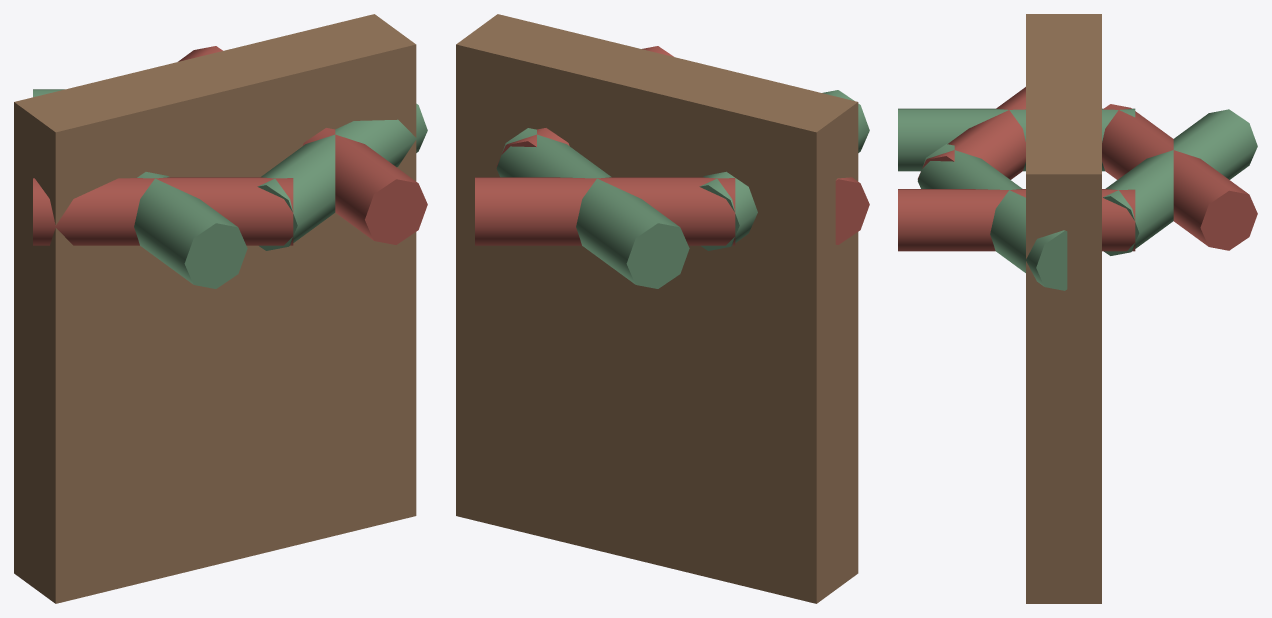
Rendered from wine_rack.glb.
3 renders of one model, left to right at view 1: azimuth 30°, elevation 25°; view 2: azimuth 150°, elevation 25°; view 3: azimuth 270°, elevation 25°, orthographic. The views are drawn at different scales.
Visible parts, largest first — view 1: frame, bottle_r (×2), bottle_l (×2); view 2: frame, bottle_r (×3), bottle_l (×2); view 3: frame, bottle_r (×3), bottle_l (×3).
Part boxes in pixels (<box>): frame: <box>14,14,416,603</box>; bottle_r (×2): <box>33,128,427,245</box>; bottle_l (×2): <box>134,103,427,288</box>; frame: <box>456,14,858,603</box>; bottle_r (×3): <box>475,46,869,245</box>; bottle_l (×2): <box>496,90,869,288</box>; frame: <box>1026,14,1101,603</box>; bottle_r (×3): <box>898,87,1257,251</box>; bottle_l (×3): <box>898,108,1257,290</box>.
Bounding box in the file's own units: 0.4381 × 0.5 × 0.3794.
